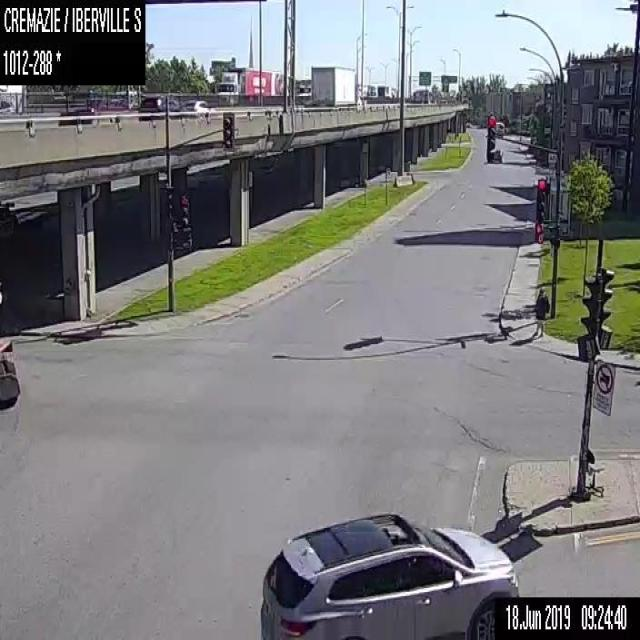bus: (494, 120, 504, 133)
pedestrian: (531, 288, 549, 337)
vehicle: (258, 509, 519, 639), (215, 64, 284, 105), (310, 62, 367, 106), (136, 92, 188, 120), (58, 106, 96, 124), (182, 98, 216, 117), (96, 98, 128, 110), (413, 88, 434, 102), (0, 100, 14, 116), (494, 148, 502, 162), (494, 129, 502, 139), (466, 121, 472, 127)
